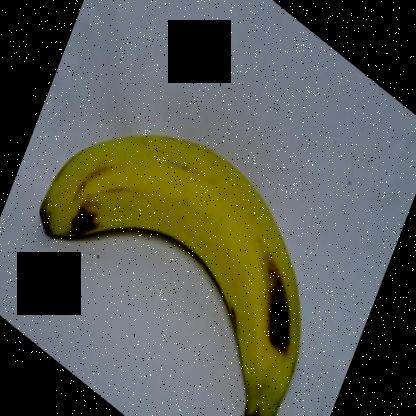freshripe: (30, 112, 320, 415)
